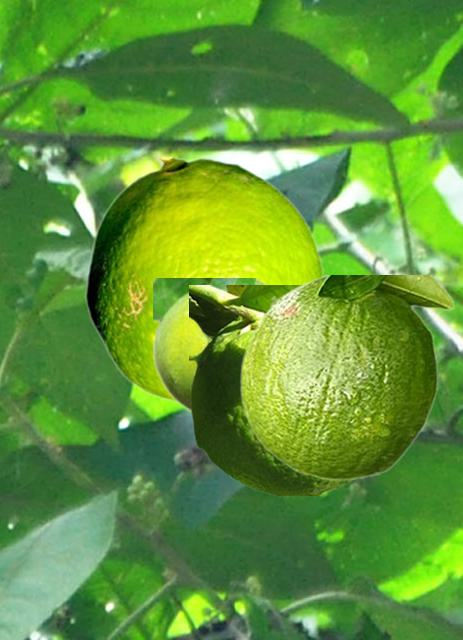dalandan: (85, 157, 323, 403), (239, 275, 454, 479), (189, 285, 357, 494), (153, 278, 271, 414)
